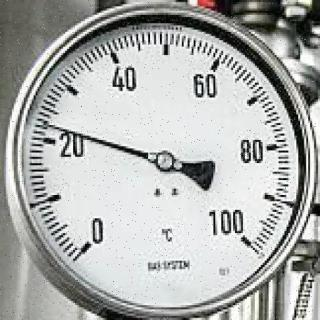gauge: (0, 0, 320, 320), (206, 208, 262, 264), (71, 213, 115, 267), (154, 148, 176, 172), (35, 116, 53, 130)
